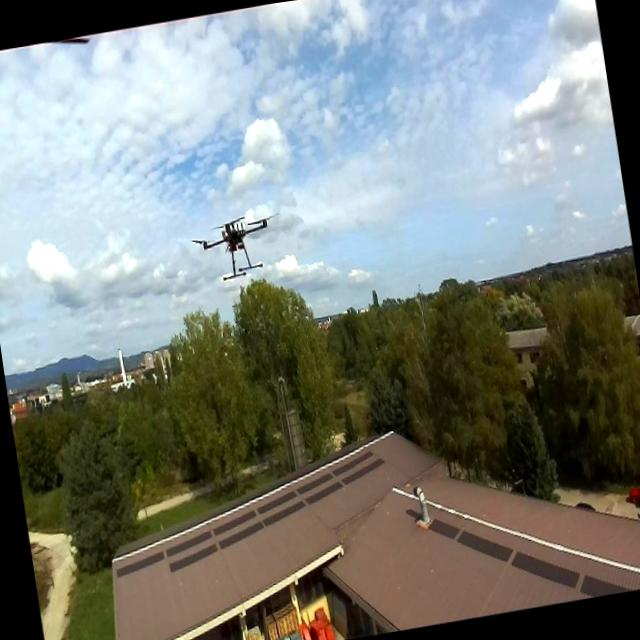drone: (194, 206, 284, 287)
